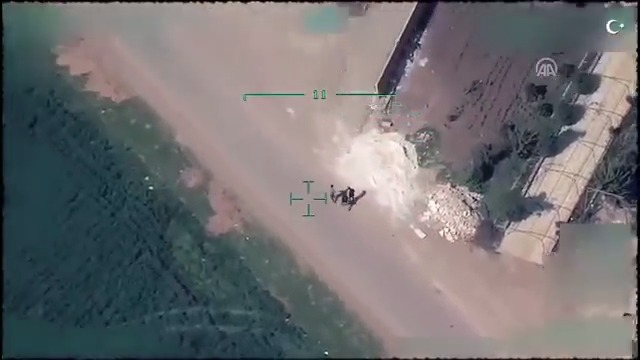insan: (347, 184, 358, 204), (327, 184, 338, 200)
